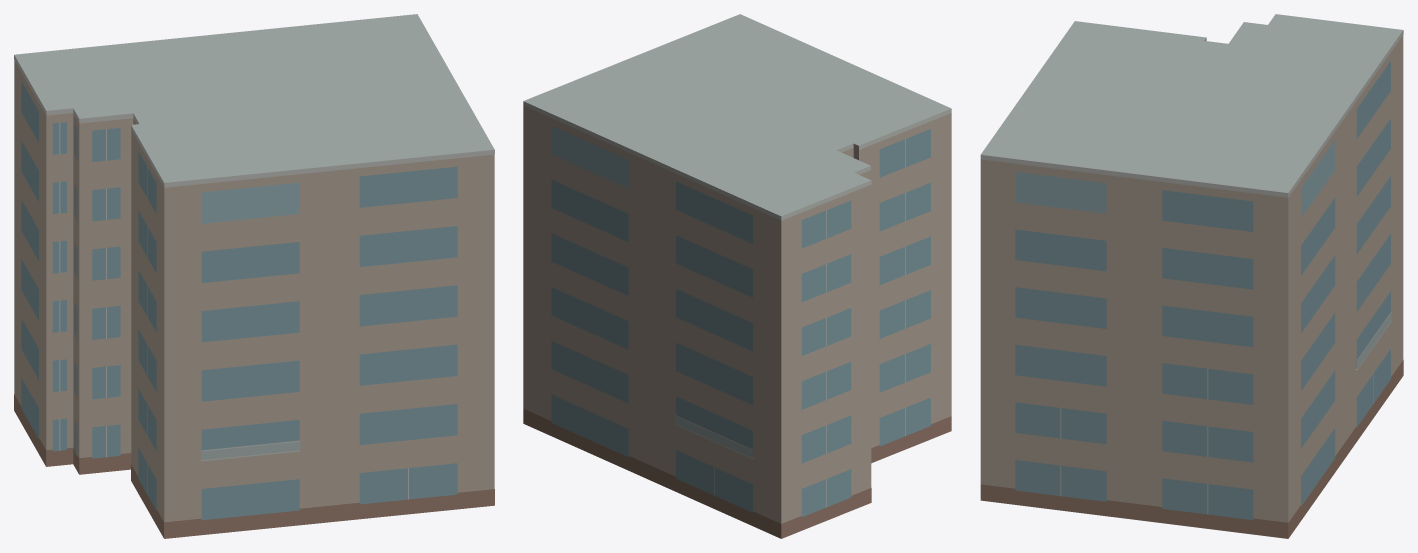
The model's file is survey-upis-32670751.glb.
3 views of the same model, side by side, from view 1: azimuth 30°, elevation 25°; view 2: azimuth 150°, elevation 25°; view 3: azimuth 270°, elevation 25° (orthographic). The views are drawn at different scales.
Visible parts, largest first — view 1: survey-upis-32670751.tmp; view 2: survey-upis-32670751.tmp; view 3: survey-upis-32670751.tmp.
Boxes of the visible parts, box(x1,y1,x2,y2) form: survey-upis-32670751.tmp: box(14, 14, 494, 538); survey-upis-32670751.tmp: box(523, 14, 951, 538); survey-upis-32670751.tmp: box(980, 14, 1403, 538).
Bounding box in the file's own units: 20.34 × 18.3 × 20.29.
